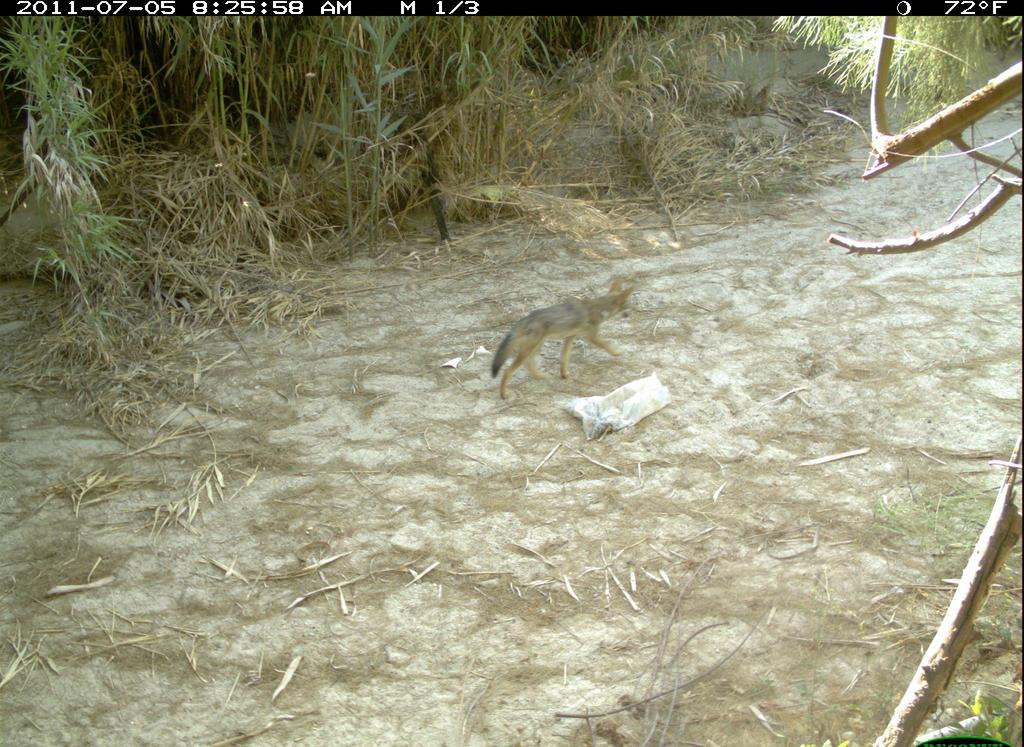coyote: (465, 267, 648, 415)
